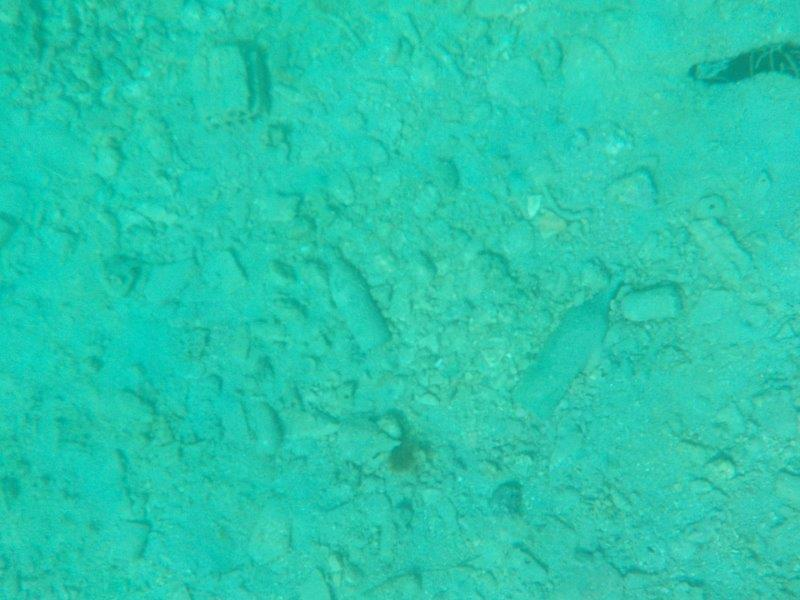bottle: (506, 265, 629, 419), (320, 239, 391, 358)
